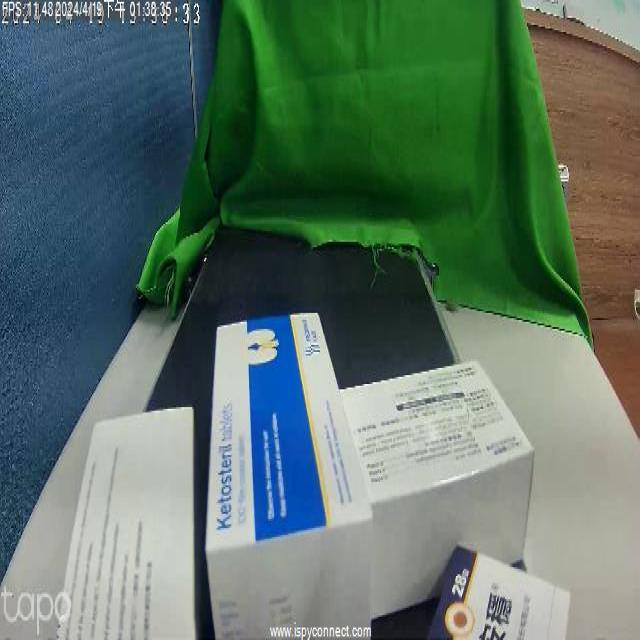box: (206, 303, 343, 635), (78, 393, 207, 640), (342, 372, 489, 581), (432, 561, 563, 640)
